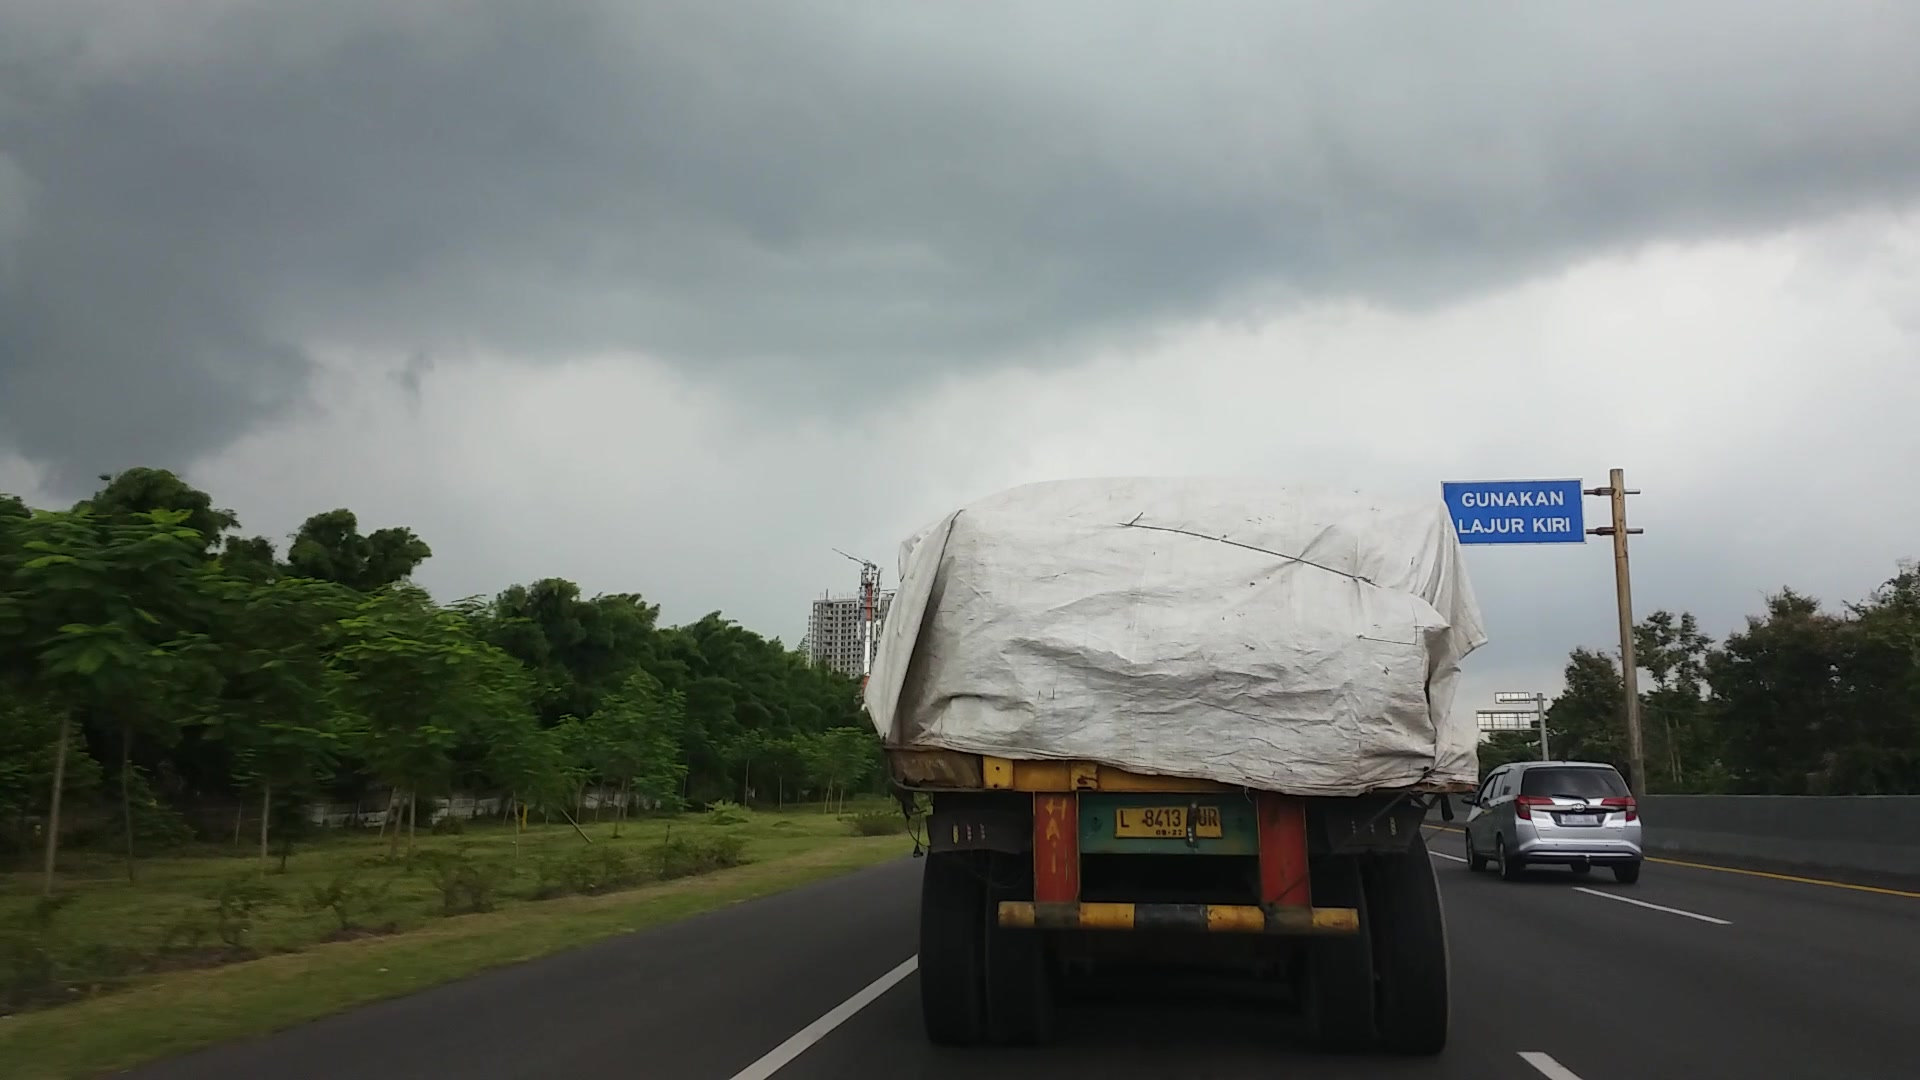plate_positive: (1114, 806, 1222, 839)
